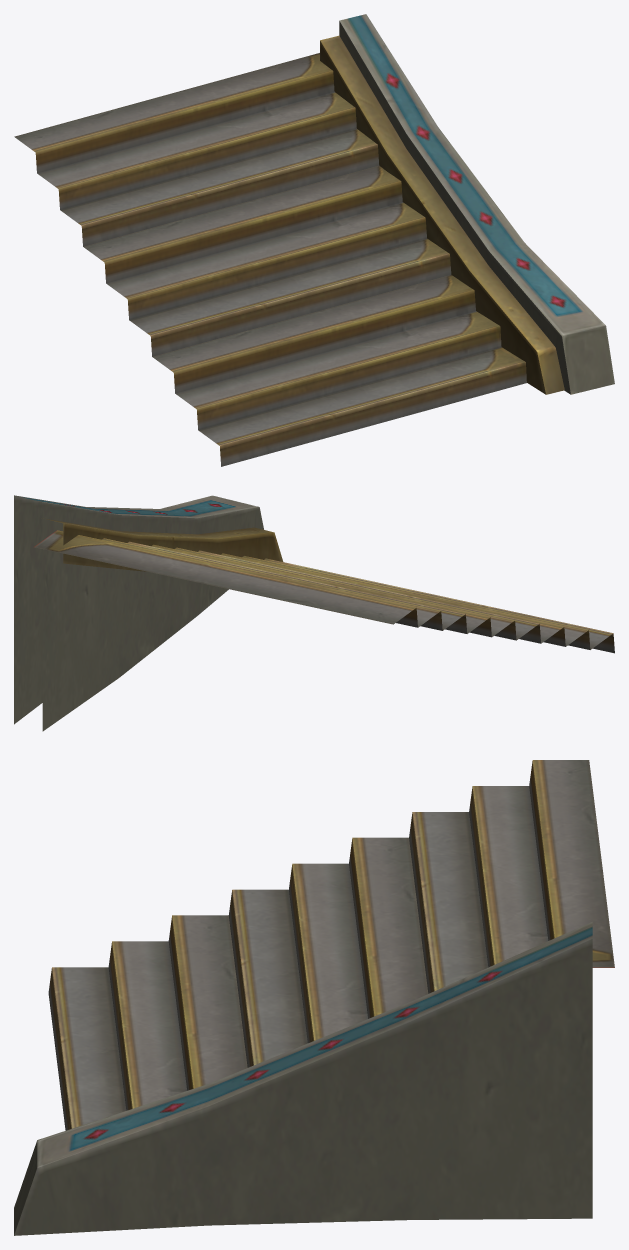
File: WC_tibu01.FBX
The picture shows the model from 3 angles, top to bottom: view 1: azimuth 30°, elevation 25°; view 2: azimuth 150°, elevation 25°; view 3: azimuth 270°, elevation 25°; orthographic projection. The views are drawn at different scales.
Visible parts, largest first — view 1: WC_tibu01_001; view 2: WC_tibu01_001; view 3: WC_tibu01_001.
Boxes of the visible parts, x1,y1,x2,y2 form: WC_tibu01_001: [14, 14, 614, 466]; WC_tibu01_001: [14, 495, 614, 731]; WC_tibu01_001: [14, 760, 614, 1235].
Bounding box in the file's own units: 769 × 414 × 806.
